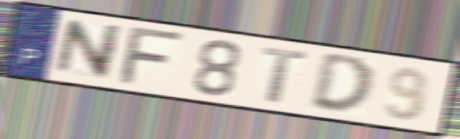8: (192, 38, 242, 98)
9: (384, 64, 434, 123)
D: (307, 53, 377, 117)
F: (115, 25, 190, 87)
N: (50, 18, 127, 82)
T: (260, 46, 310, 106)
